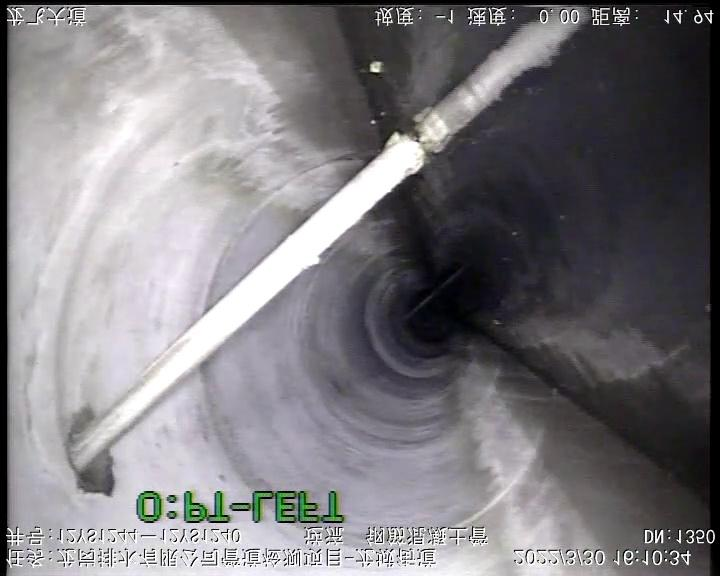ZGAJ: (72, 134, 424, 474)
